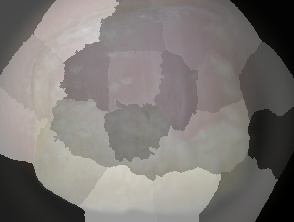Nail_psoriasis: (9, 0, 276, 222)
